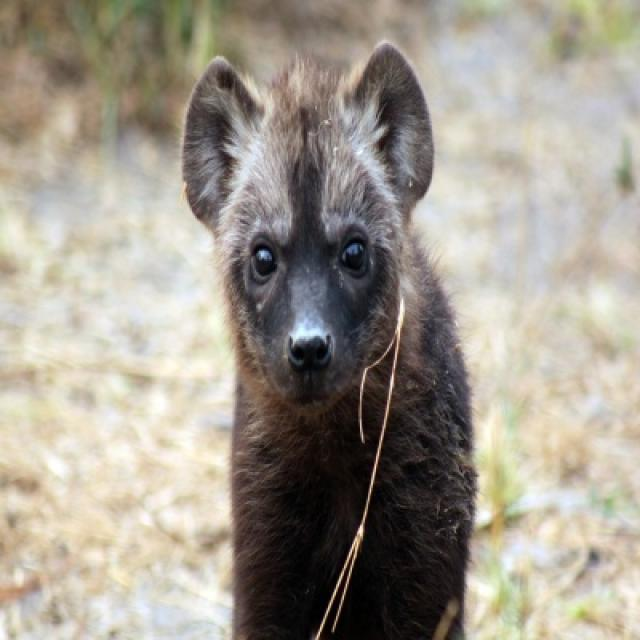hyena: (182, 43, 478, 638)
